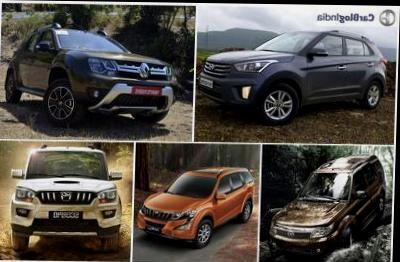License_Plate: (49, 206, 88, 221), (141, 223, 167, 232)
